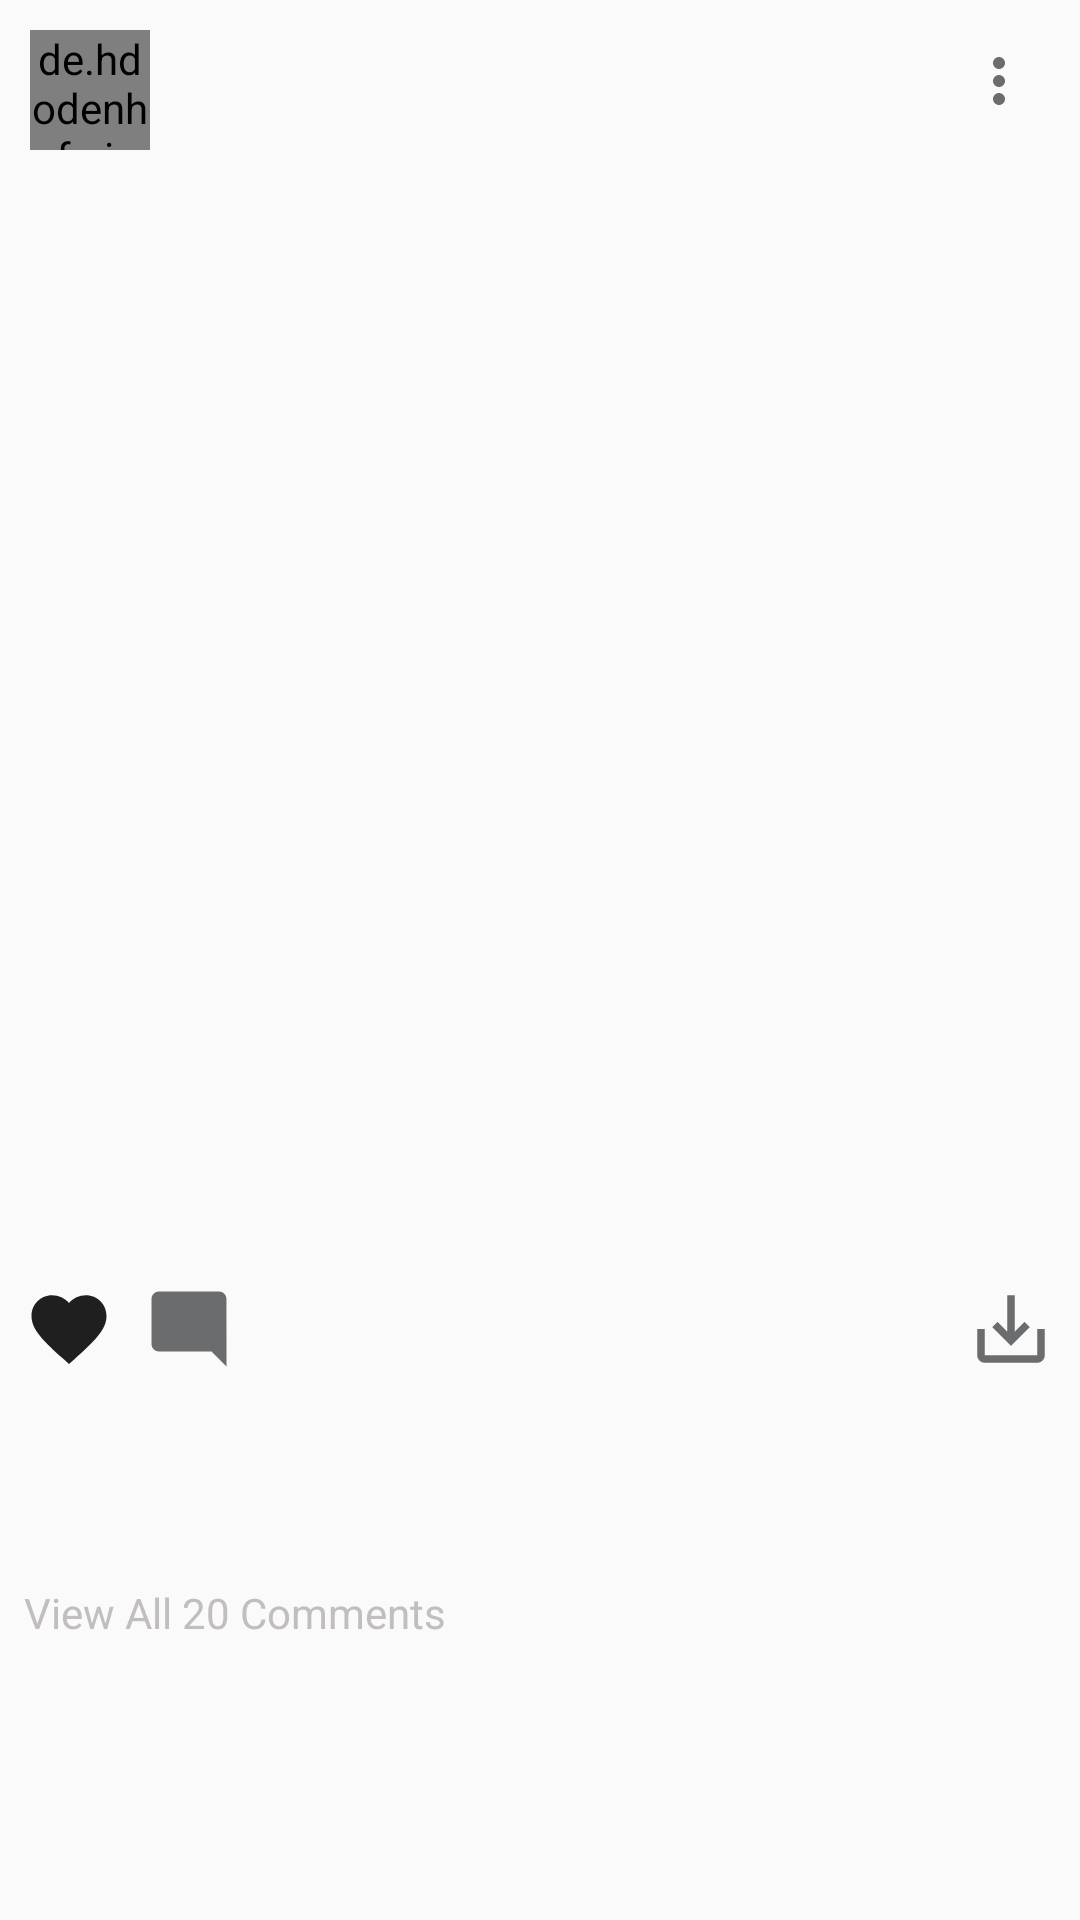

Icon click points for this 1080 × 1920 phone screenshot, format (x=x, y=y):
comment: (x=189, y=1328)
like: (x=69, y=1329)
more vert: (x=999, y=81)
